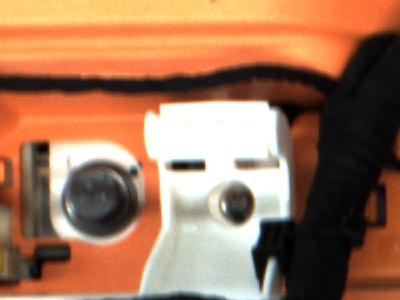nut_b: (59, 159, 139, 237)
